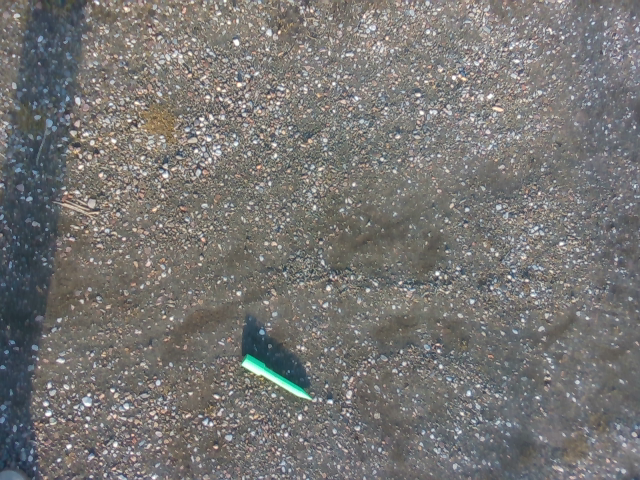Probe: (237, 349, 319, 407)
